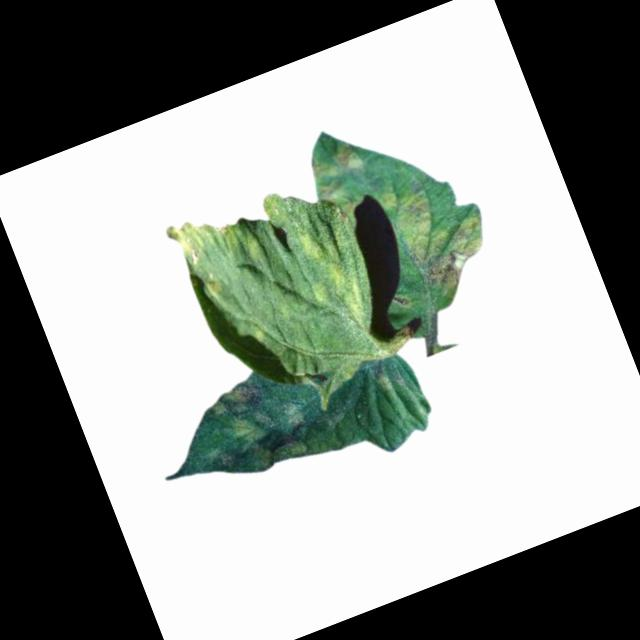Leaf_Mold: (377, 165, 500, 305), (189, 363, 315, 488), (290, 221, 370, 336), (163, 200, 243, 274), (299, 136, 374, 204), (200, 267, 230, 298)
